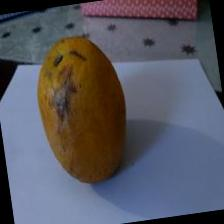Orange Rotten: (24, 23, 148, 197)
